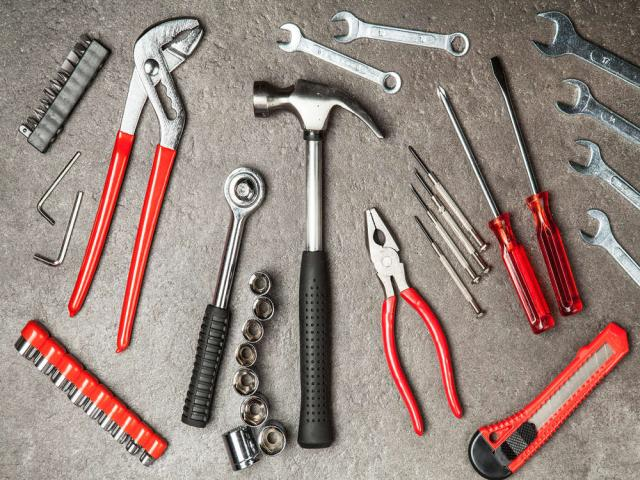Gas wrench: (69, 18, 202, 351)
Hammer: (254, 80, 382, 448)
Pliers: (366, 208, 462, 435)
Ratchet: (181, 167, 265, 427)
Screwdriver: (438, 86, 554, 332), (491, 58, 582, 316)
Utility knife: (469, 323, 629, 479)
Wrench: (278, 24, 401, 93), (532, 11, 640, 88), (332, 11, 469, 56), (556, 79, 640, 145), (569, 141, 640, 209), (581, 209, 640, 286)
